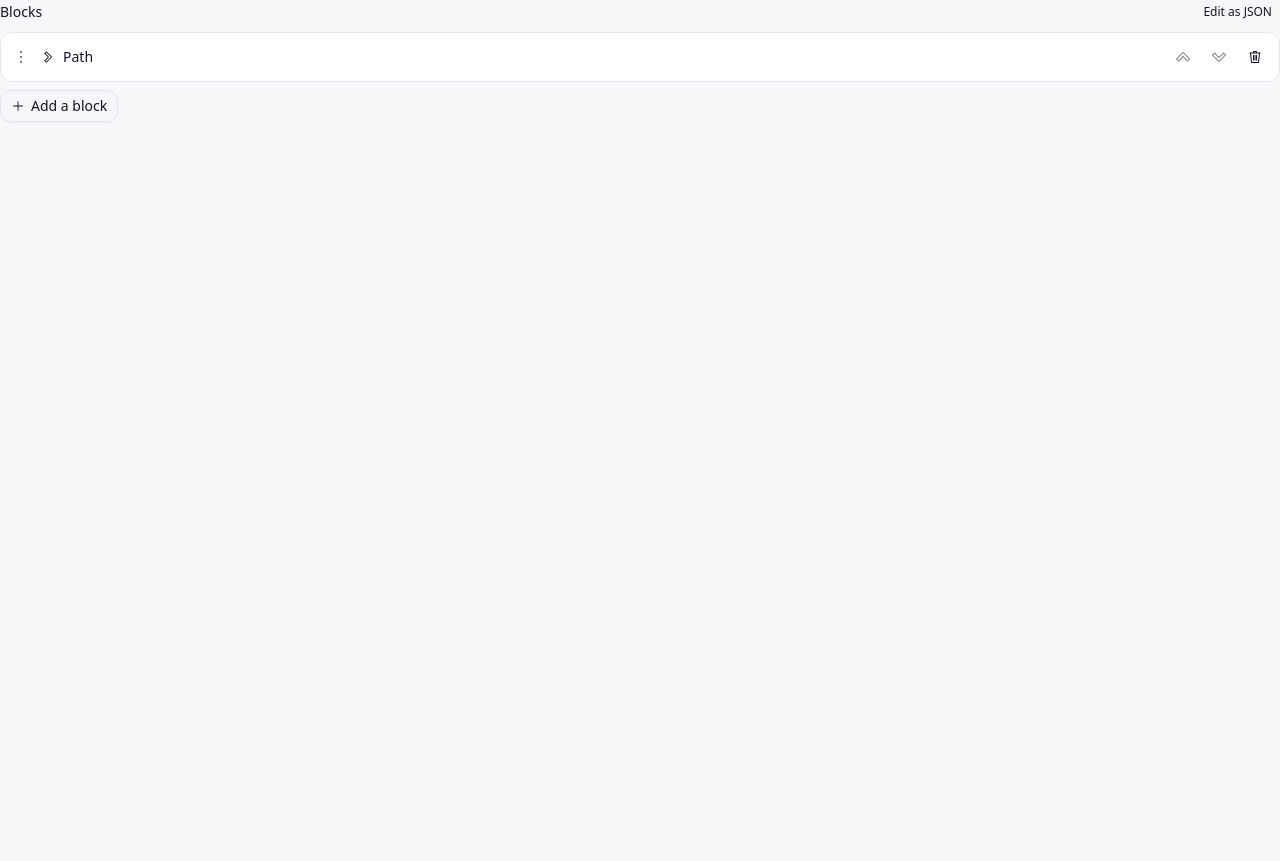
Test: a list of groups › removes an entry, and not below the minimum
Click the button "Path".
click(78, 56)  # box [37,43,1163,71]
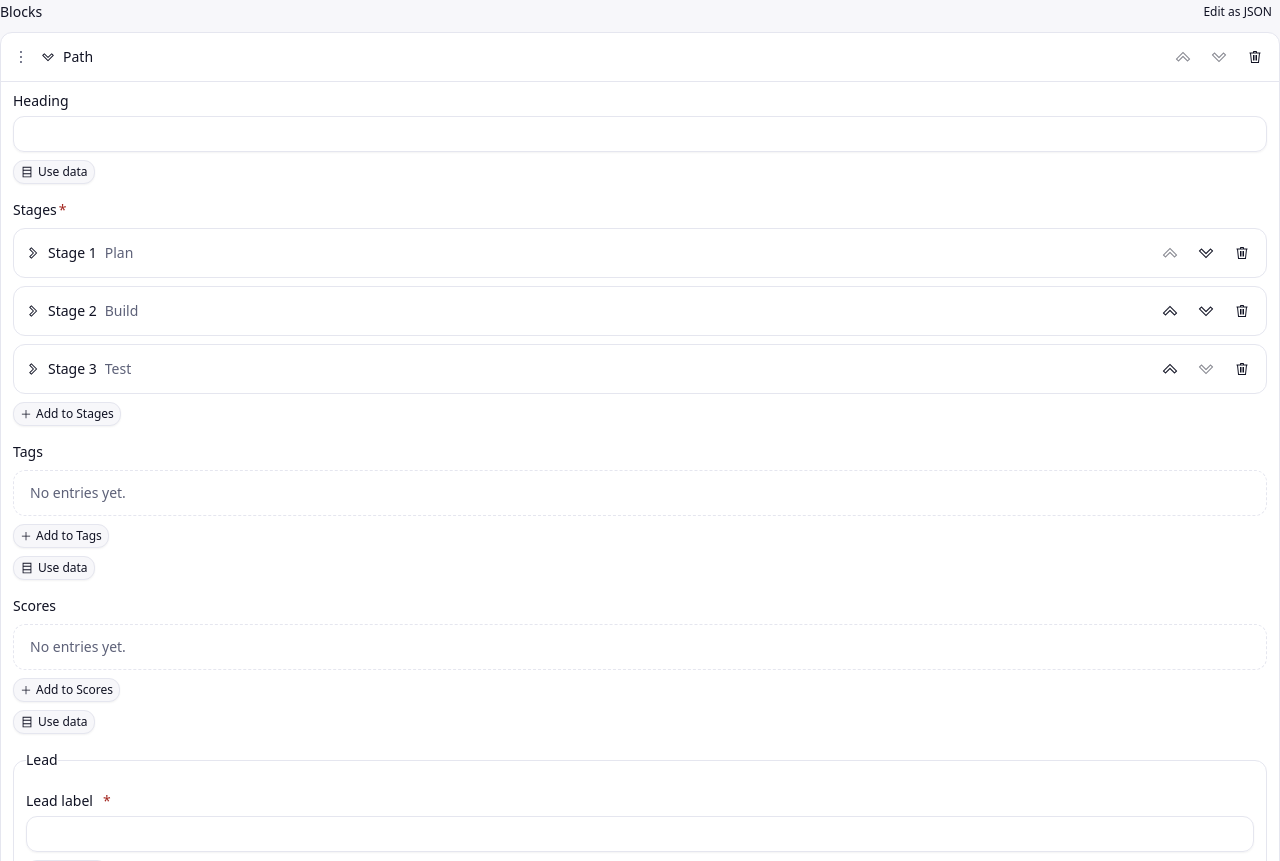
Click the button named "Remove Stage 2".
click(1242, 311)  # box [1226,295,1258,327]
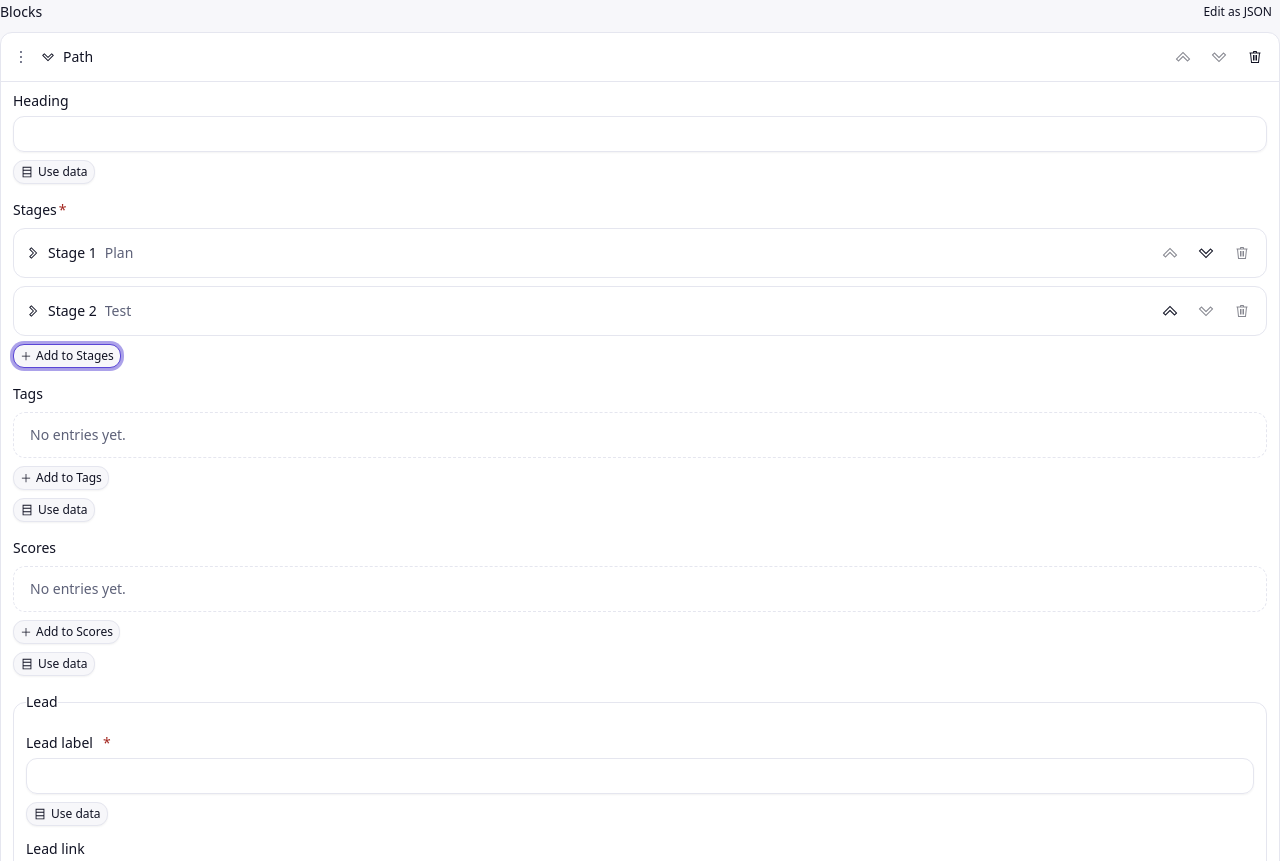
Expected: the button named "Remove Stage 1" is disabled, [1226,237,1258,269]
Expected: the button named "Remove Stage 2" is disabled, [1226,295,1258,327]
